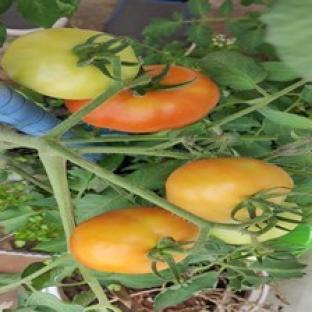Tomato: (84, 66, 220, 132), (70, 207, 197, 274), (166, 158, 292, 222), (2, 28, 112, 98)
